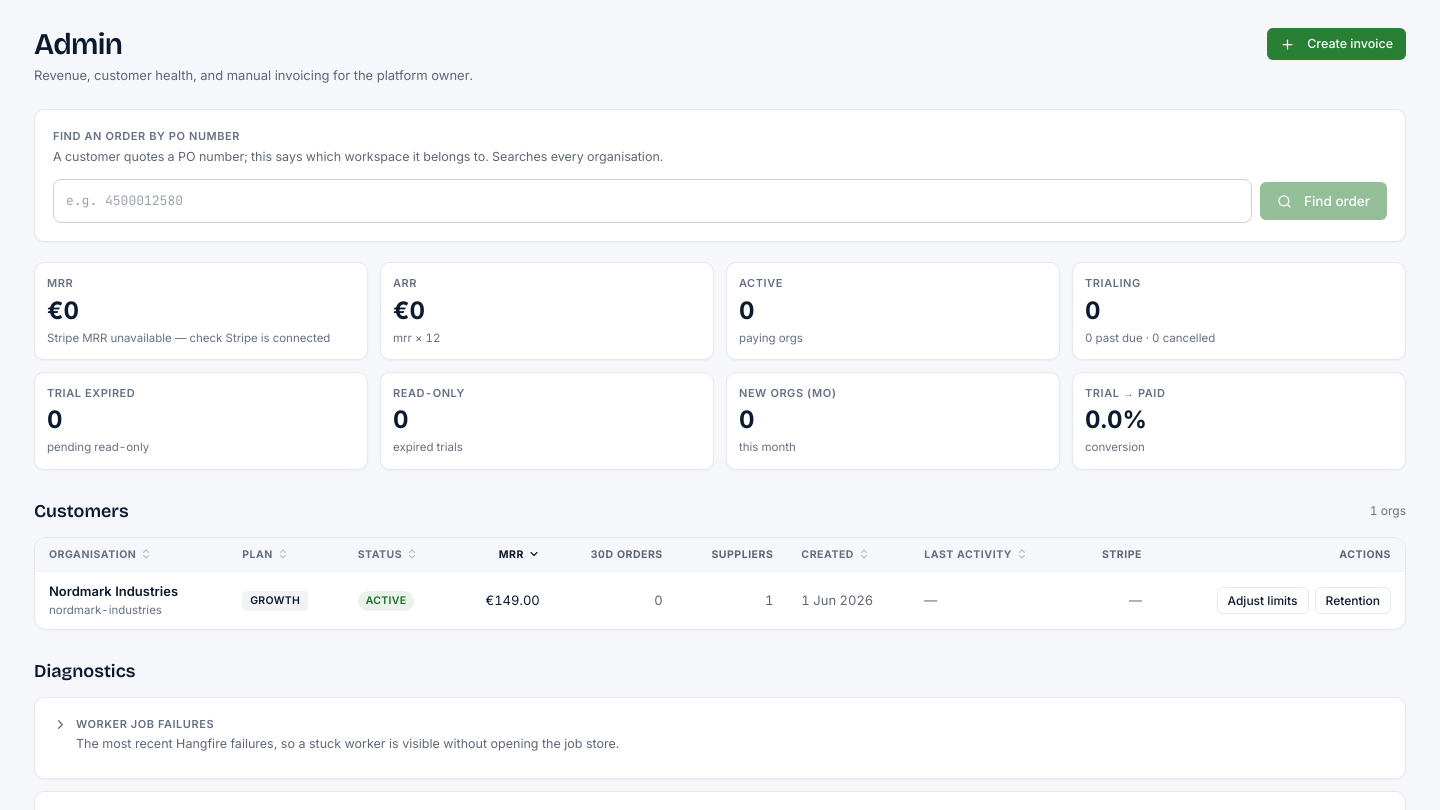
Test: admin — job failures › renders a distinct, announced error — not an empty list — when the fetch fails
The image size is (1440, 810).
Check: the heading "Customers" is shown, box [34,498,129,525]
Click the button that starts with "Worker job failures" at [145, 724], box [53,716,1387,760]
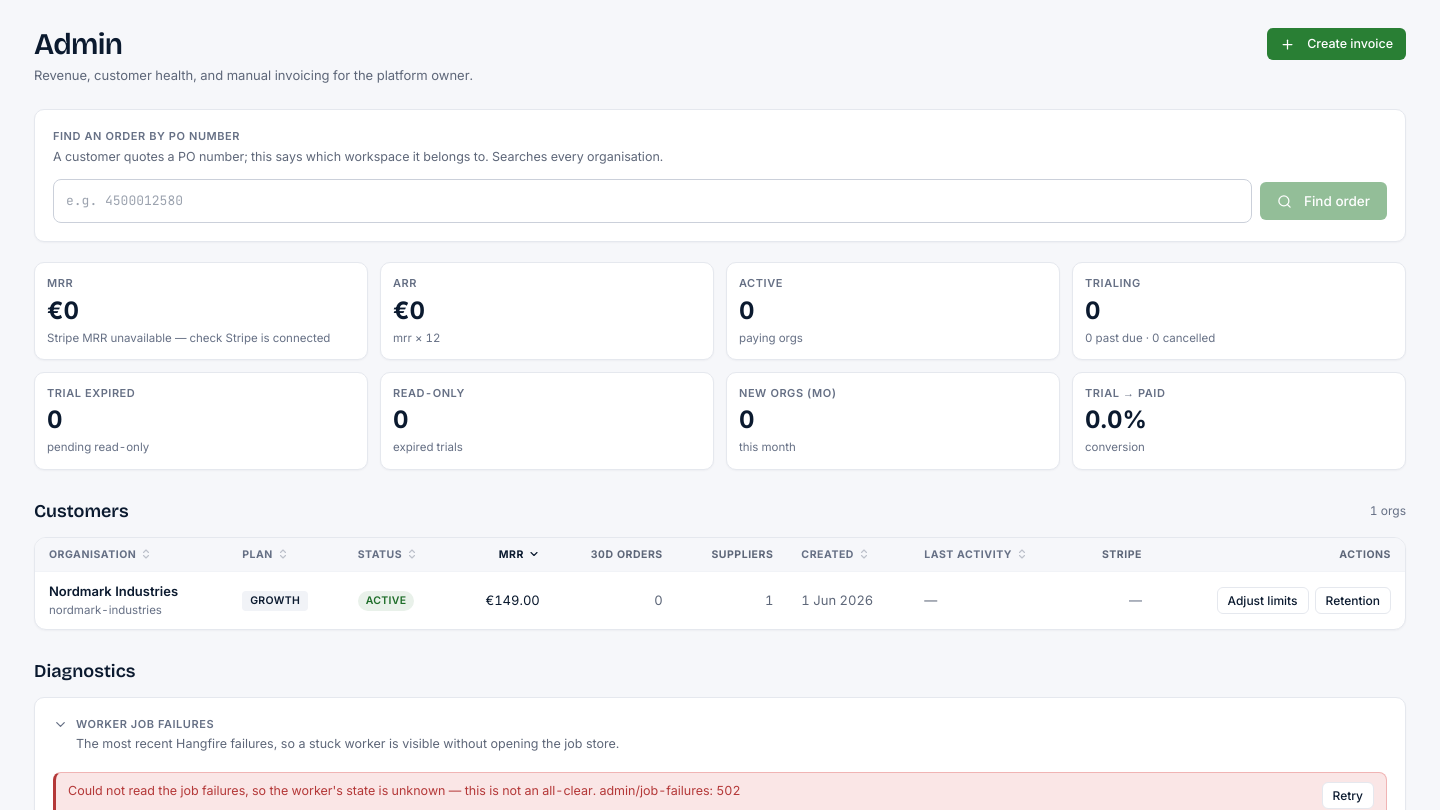
Check: the button "Retry" is shown, box [1322,782,1374,809]
